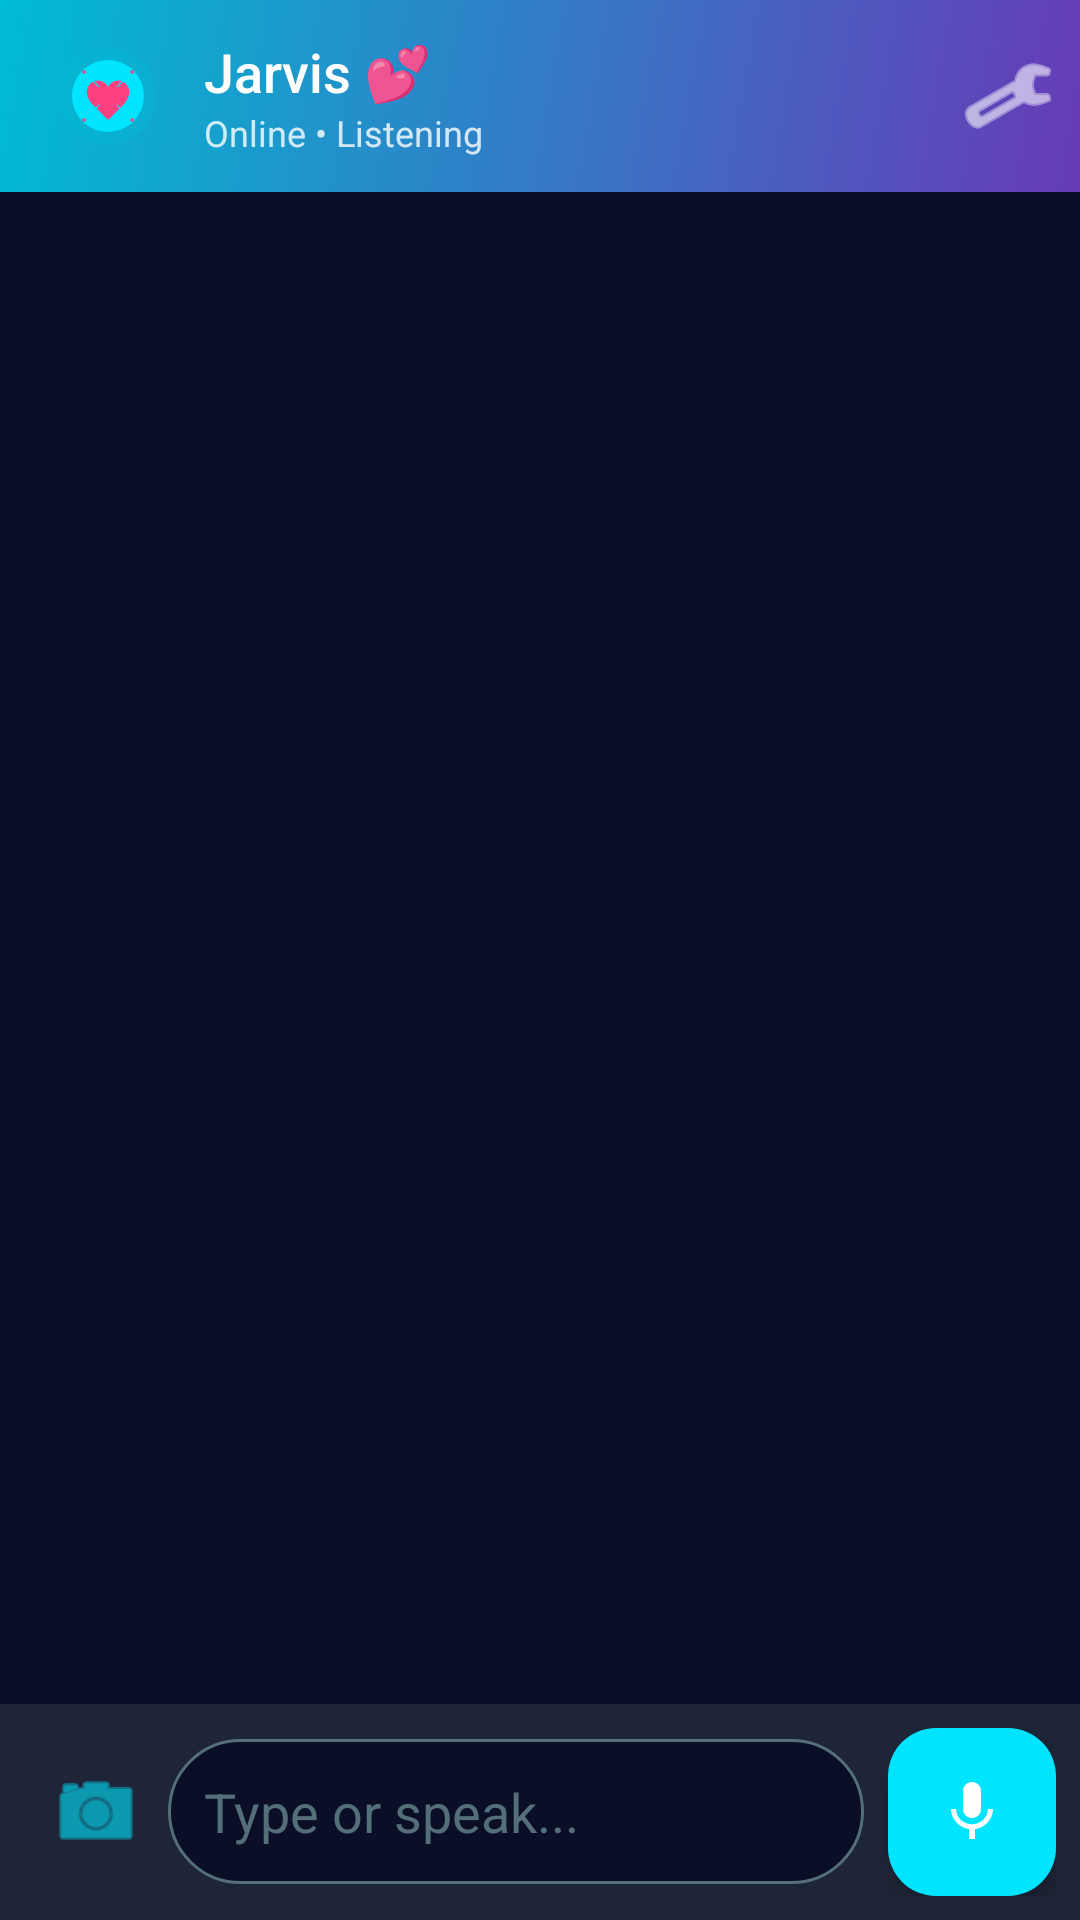

Locate icon controls on the screen. Image size 1080px x 1920px, boxes as [x1,y1,x2,y2].
Camera: [59,1781,133,1840]
Settings: [965,63,1051,129]
Voice Input: [888,1728,1056,1896]
